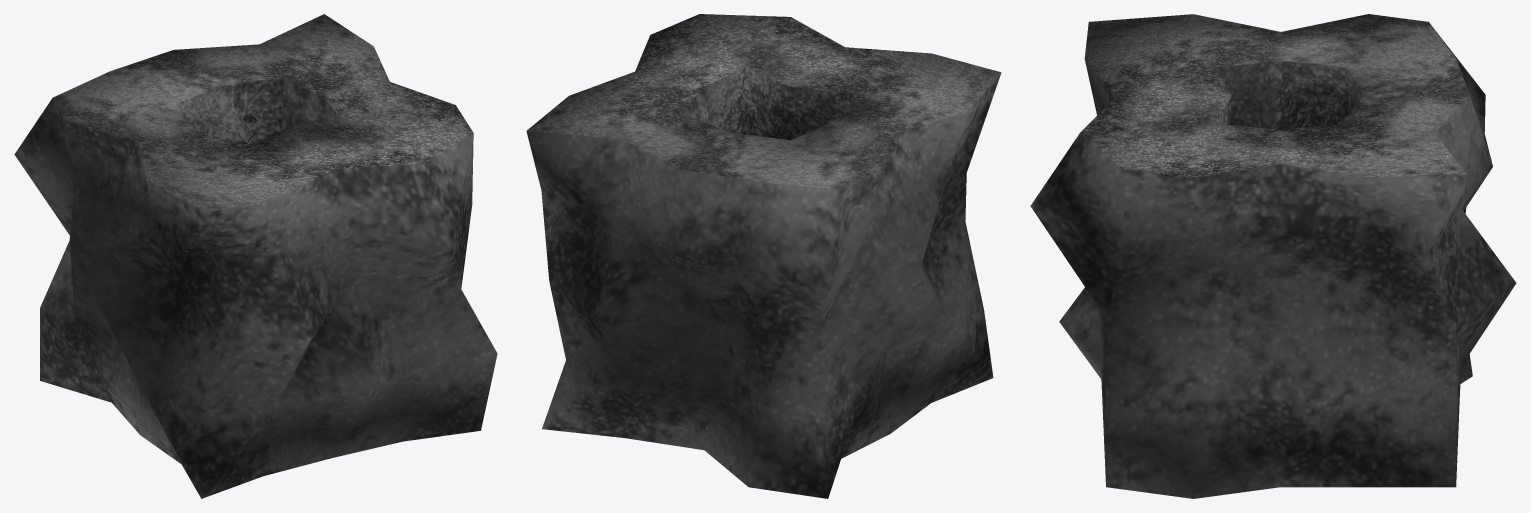
Rendered from 22plat.fbx.
3 views of the same model, side by side, from view 1: azimuth 30°, elevation 25°; view 2: azimuth 150°, elevation 25°; view 3: azimuth 270°, elevation 25° (orthographic). The views are drawn at different scales.
Parts seen in each view (by area): view 1: Cube; view 2: Cube; view 3: Cube.
Boxes of the visible parts, left/top/right/bottom form: Cube: left=14, top=14, right=497, bottom=498; Cube: left=526, top=14, right=1001, bottom=498; Cube: left=1030, top=14, right=1516, bottom=498.
Bounding box in the file's own units: 2.36 × 2.19 × 2.78.
